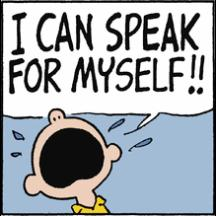charlie: (23, 106, 125, 216)
